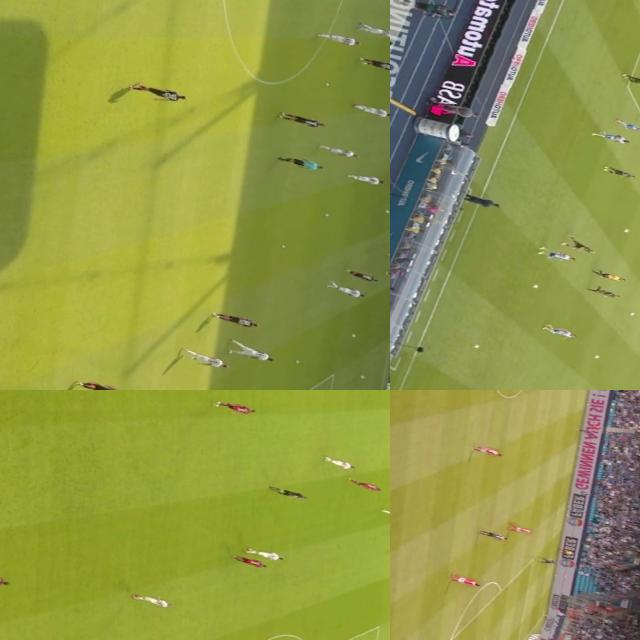ball: (350, 332, 360, 338), (622, 226, 630, 232), (531, 282, 538, 288), (281, 243, 288, 248), (325, 81, 332, 86), (473, 343, 480, 348), (296, 359, 302, 364), (384, 208, 390, 213), (359, 374, 366, 378), (325, 212, 332, 216), (550, 387, 558, 390), (630, 310, 636, 314), (594, 355, 600, 358)
player: (126, 80, 190, 104), (227, 337, 276, 364), (181, 346, 229, 369), (240, 540, 284, 564), (210, 396, 259, 417), (213, 310, 260, 330), (558, 233, 598, 254), (588, 127, 631, 145), (132, 590, 175, 608), (350, 99, 390, 118), (542, 320, 580, 340), (536, 244, 577, 262), (348, 170, 388, 188), (280, 110, 322, 127), (322, 29, 363, 46), (234, 553, 272, 571), (355, 21, 390, 40), (76, 379, 132, 390), (346, 476, 384, 492), (320, 142, 357, 158), (322, 454, 356, 471), (328, 282, 364, 298), (589, 282, 621, 300), (602, 162, 638, 178), (471, 442, 507, 458), (478, 526, 512, 542), (358, 56, 390, 72), (453, 573, 486, 588), (347, 268, 379, 282), (0, 562, 15, 590), (509, 522, 536, 536), (615, 118, 640, 133), (536, 554, 562, 567), (621, 72, 640, 86), (379, 503, 390, 521), (306, 636, 347, 640)
